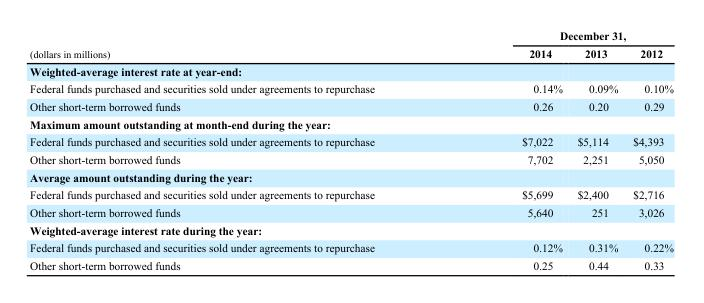table: (29, 29, 672, 271)
table column: (29, 29, 447, 271), (447, 29, 569, 271), (569, 29, 624, 271), (624, 29, 672, 271)
table column header: (29, 29, 672, 61)
table projected row header: (29, 61, 672, 79), (29, 114, 672, 132), (29, 168, 672, 185), (29, 221, 672, 238)
table row: (29, 61, 672, 79), (29, 79, 672, 97), (29, 114, 672, 132), (29, 132, 672, 150), (29, 150, 672, 168), (29, 185, 672, 203), (29, 203, 672, 221), (29, 238, 672, 256), (29, 44, 672, 61), (29, 97, 672, 114), (29, 168, 672, 185), (29, 221, 672, 238), (29, 29, 672, 44), (29, 256, 672, 271)
table spanning cell: (29, 29, 447, 61), (447, 29, 672, 44)
